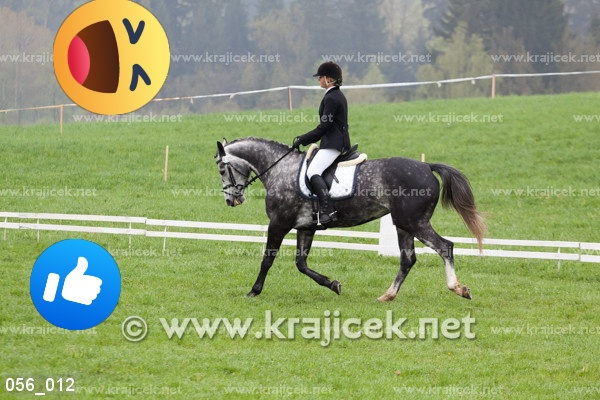haha: (53, 0, 170, 115)
like: (30, 239, 121, 330)
